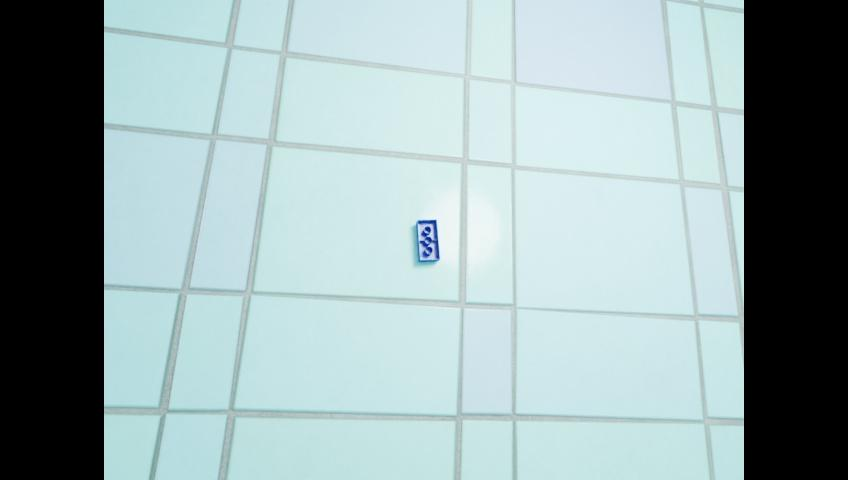4x2_blue: (416, 218, 440, 262)
